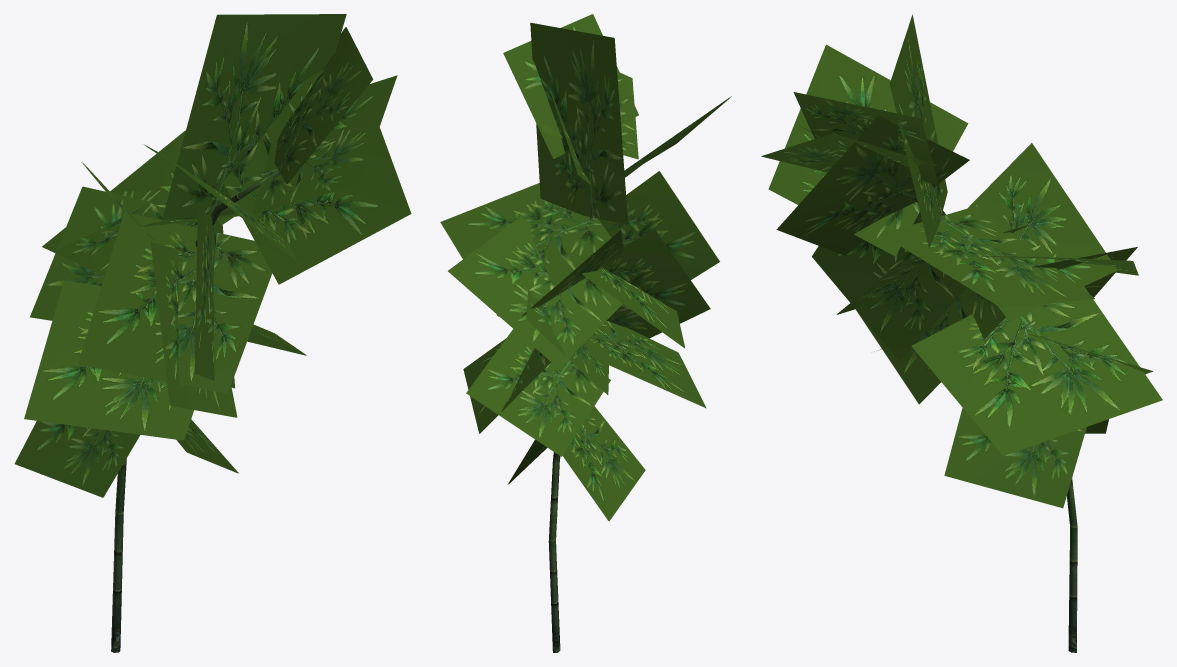
File: Dingqingchuan_wujian_19.FBX
3 views of the same model, side by side, from view 1: azimuth 30°, elevation 25°; view 2: azimuth 150°, elevation 25°; view 3: azimuth 270°, elevation 25° (orthographic). The views are drawn at different scales.
Parts seen in each view (by area): view 1: Plane883, Cylinder60; view 2: Plane883, Cylinder60; view 3: Plane883, Cylinder60.
Part boxes in pixels (x1,y1,x2,y2): Plane883: (14,14,411,497); Cylinder60: (111,137,335,652); Plane883: (440,14,731,521); Cylinder60: (548,214,595,652); Plane883: (761,14,1162,508); Cylinder60: (800,125,1077,652).
Bounding box in the file's own units: 2.72 × 5.61 × 3.17.
